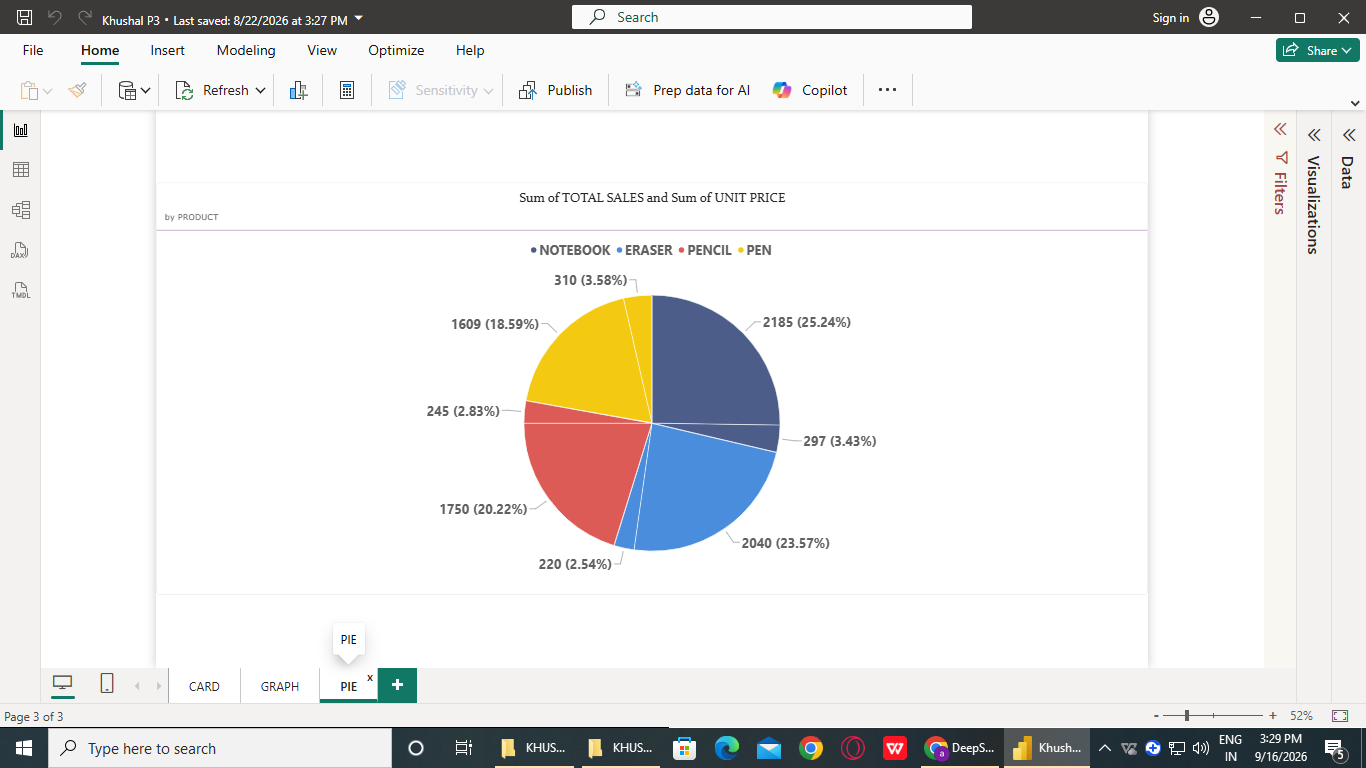

This screenshot's page, from the dashboard's own definition file:
{"tool":"powerbi","page":{"name":"PIE","canvas":[1920,1080],"ordinal":2},"visuals":[{"type":"pieChart","fields":{"Category":["Sheet1.PRODUCT"],"Y":["Sum(Sheet1.TOTAL SALES)","Sum(Sheet1.UNIT PRICE)"]},"box":[0,138.6,1920,798.7],"z":0}]}

Visuals, with their boxes on the page's 1920x1080 design canvas (x1, y1, x2, y2). These are canvas units, not pixel positions in the 1366x768 screenshot, which may show the page scaled, cropped or inside an application window:
pieChart - Sheet1.PRODUCT x Sum(Sheet1.TOTAL SALES): [left=0, top=139, right=1920, bottom=937]
